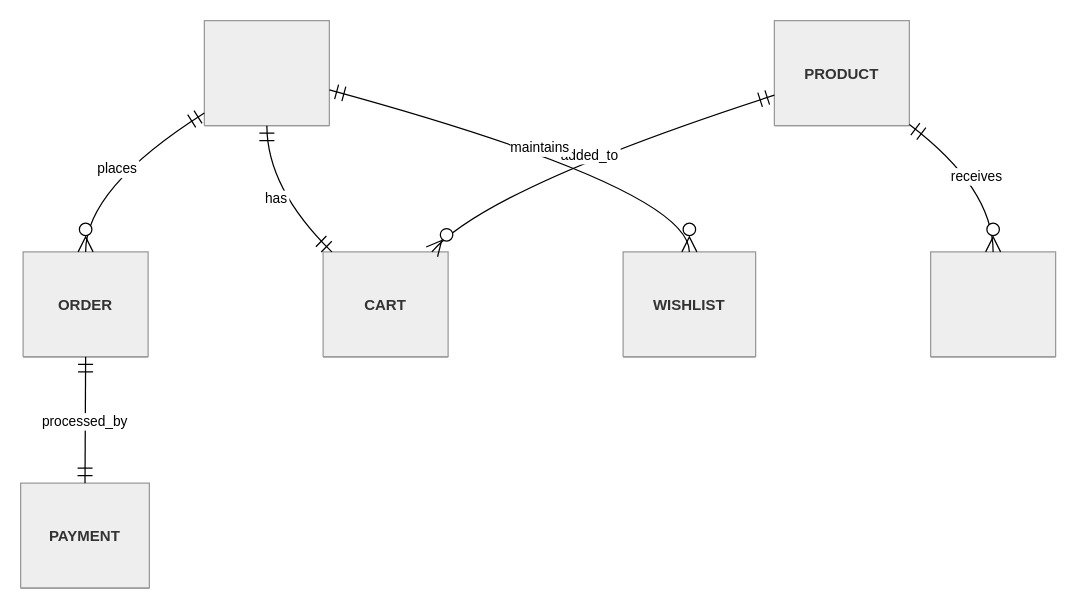
Image size: 1076x609. Some labels were removed from this diagram. The shapes that lost their labels are listed below. From the top down, each one's centre as x and y in pixels, then its label:
At [266,72]: "USER".
At [992,304]: "REVIEW".
